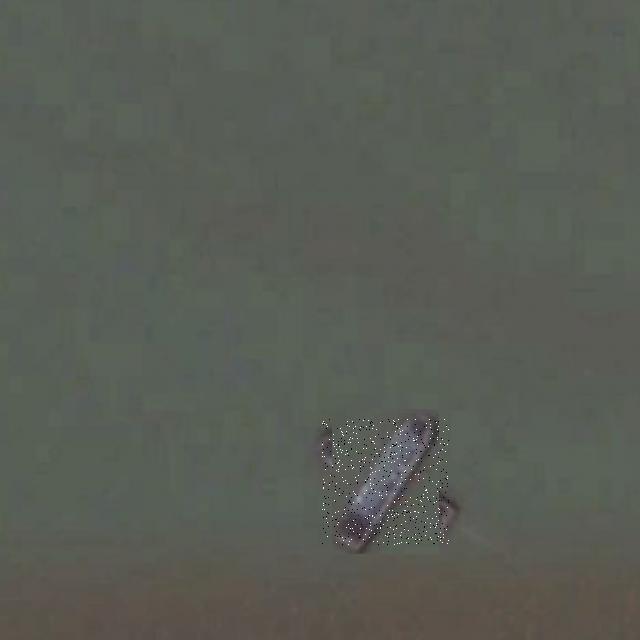boat: (322, 419, 449, 545)
